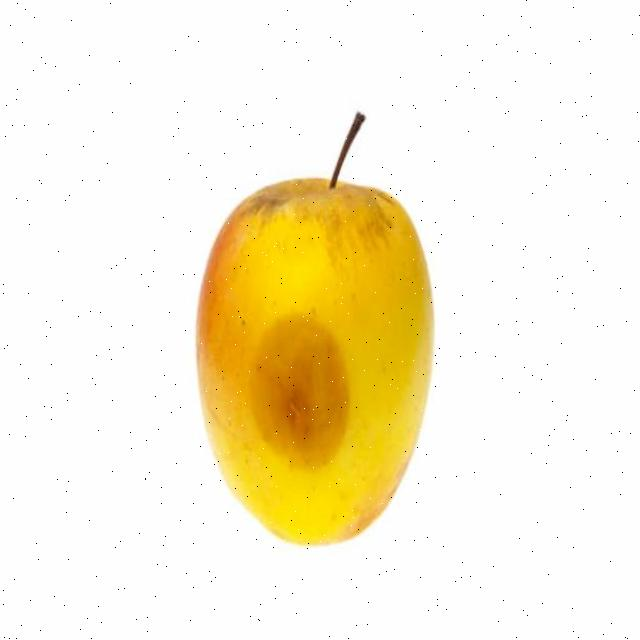ROT: (176, 152, 449, 554)
